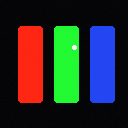0 point: (72, 45, 76, 49)
